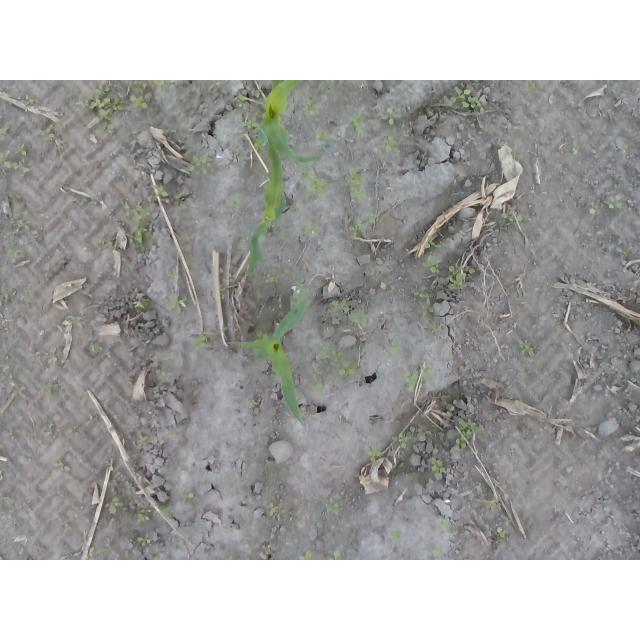Maize: (224, 299, 308, 427), (239, 121, 291, 279), (260, 81, 325, 163)
Weeds: (86, 96, 127, 132), (443, 86, 487, 114), (454, 418, 483, 450), (343, 167, 367, 205), (297, 168, 327, 198), (446, 265, 475, 291), (29, 346, 59, 370), (128, 81, 152, 111), (414, 285, 434, 316), (332, 358, 359, 378), (188, 154, 213, 175), (290, 282, 311, 307), (315, 343, 344, 361), (125, 203, 152, 221), (129, 226, 152, 245), (377, 136, 401, 154), (348, 308, 369, 328), (166, 295, 188, 314), (430, 457, 447, 480), (9, 379, 28, 399), (420, 255, 440, 274), (347, 112, 366, 132), (302, 99, 323, 117), (382, 107, 403, 125), (398, 369, 418, 387), (104, 497, 124, 515), (266, 503, 286, 521), (391, 432, 413, 448), (331, 298, 350, 315), (419, 365, 438, 382), (153, 80, 175, 94), (2, 219, 30, 230), (193, 335, 211, 352), (604, 195, 624, 210), (11, 160, 28, 177), (306, 220, 323, 237), (10, 192, 22, 216), (9, 248, 27, 264), (227, 193, 242, 211), (313, 129, 331, 144), (424, 235, 442, 250), (308, 381, 327, 395), (368, 446, 384, 462), (250, 138, 266, 154), (385, 339, 403, 353), (326, 497, 340, 515), (361, 211, 380, 224), (501, 212, 523, 223), (436, 515, 452, 530), (152, 183, 169, 197), (37, 128, 55, 141), (39, 383, 54, 398), (519, 339, 534, 354), (308, 367, 325, 380), (182, 487, 195, 504), (44, 420, 57, 437), (349, 224, 366, 237), (241, 116, 259, 128), (272, 261, 290, 273), (137, 508, 151, 523), (235, 94, 249, 109), (616, 246, 633, 258), (134, 297, 151, 309), (388, 528, 403, 541), (168, 268, 180, 284), (496, 526, 508, 542), (137, 534, 151, 547), (95, 84, 110, 96), (217, 283, 227, 301), (263, 273, 281, 283), (137, 432, 148, 448), (1, 152, 12, 168), (92, 340, 105, 353), (82, 546, 94, 560), (175, 197, 187, 211), (492, 138, 504, 152), (483, 498, 497, 510), (255, 331, 270, 342), (53, 462, 71, 471), (16, 144, 29, 156), (98, 239, 115, 248), (159, 503, 174, 513), (0, 287, 10, 302), (223, 273, 238, 283), (149, 355, 170, 362), (512, 149, 524, 161), (618, 141, 630, 153), (589, 202, 600, 215), (299, 550, 313, 560), (66, 427, 80, 437), (326, 550, 340, 560), (124, 481, 133, 496), (68, 313, 81, 323), (156, 367, 167, 378), (423, 324, 438, 332), (254, 84, 262, 99), (513, 124, 527, 132), (25, 94, 36, 104), (209, 80, 220, 90), (433, 544, 444, 554), (98, 547, 106, 560), (572, 142, 580, 155), (178, 129, 188, 139), (525, 82, 536, 90), (246, 399, 258, 406), (265, 544, 272, 556), (222, 322, 231, 331), (336, 434, 345, 443), (346, 214, 355, 223), (0, 363, 8, 373), (220, 554, 233, 560), (168, 428, 177, 436), (380, 494, 390, 501), (451, 400, 457, 411), (277, 298, 283, 309), (233, 150, 240, 159), (29, 229, 39, 235), (404, 128, 411, 136), (514, 399, 523, 405), (505, 518, 511, 526), (3, 496, 12, 501), (292, 207, 298, 214), (152, 556, 160, 561), (0, 128, 4, 137), (1, 470, 4, 479)
